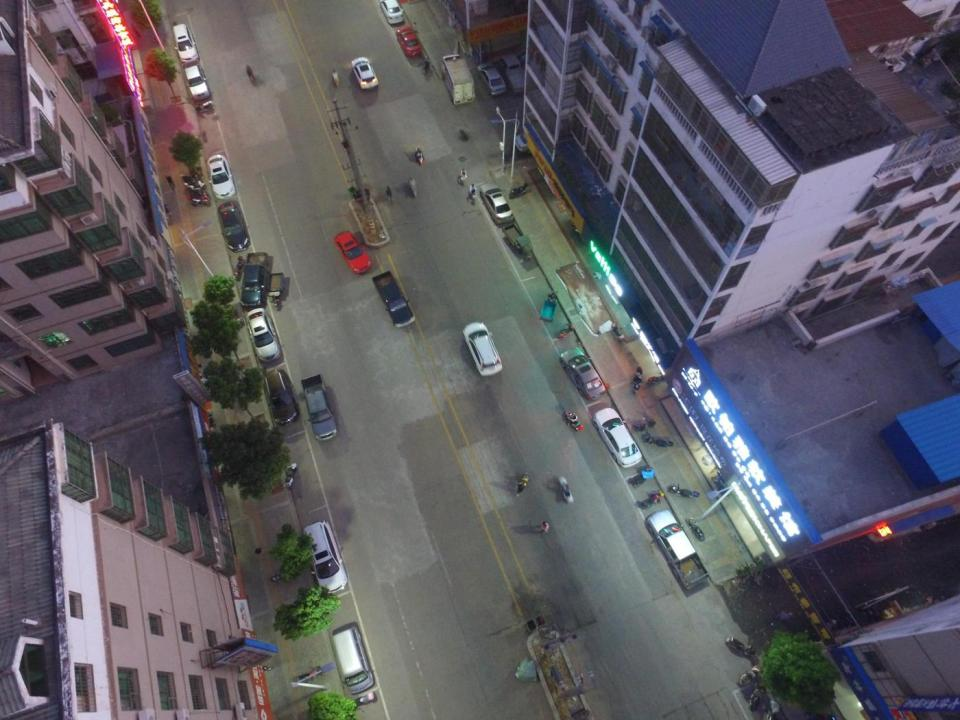car: (303, 520, 348, 592), (592, 407, 642, 468), (560, 347, 606, 400), (462, 322, 503, 376), (264, 367, 299, 426), (246, 307, 281, 362), (334, 229, 372, 274), (479, 181, 516, 226), (218, 202, 250, 252), (206, 154, 236, 200), (172, 23, 200, 64), (476, 62, 506, 96), (184, 64, 210, 101), (351, 56, 379, 90), (396, 26, 422, 56), (514, 129, 545, 154), (379, 0, 405, 25)
truck: (645, 510, 710, 589), (372, 270, 416, 329), (300, 374, 338, 441), (238, 252, 269, 308), (442, 53, 475, 105), (498, 54, 530, 94)
van: (332, 626, 374, 695)
